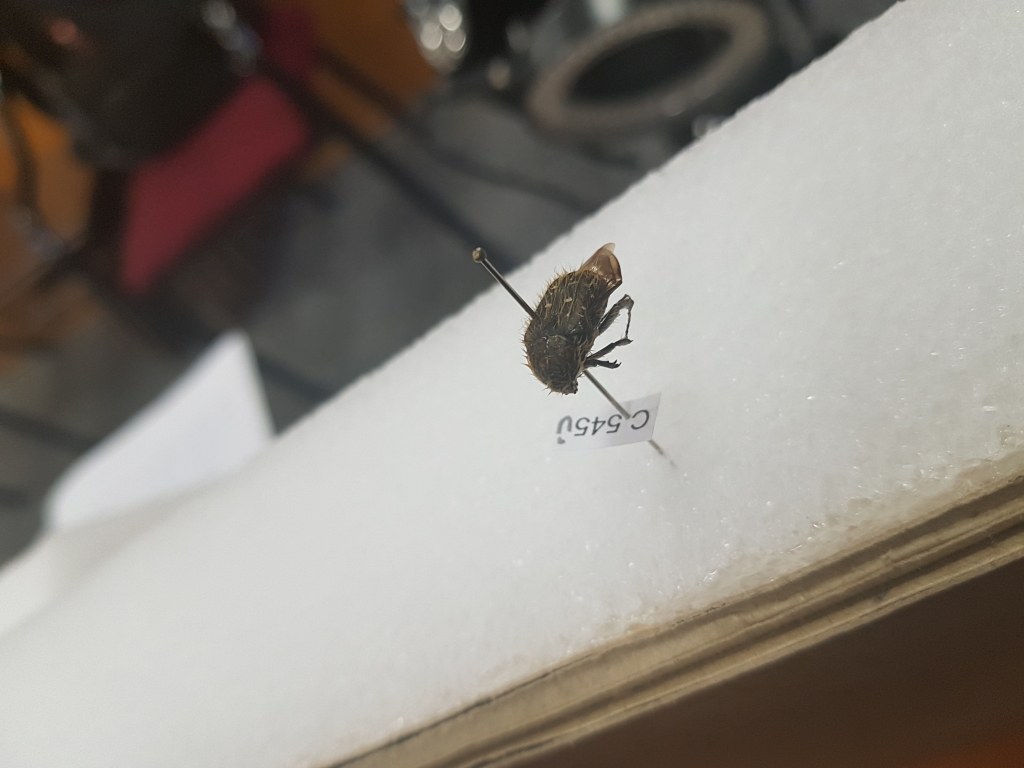Tropinota_hirta: (528, 237, 647, 399)
